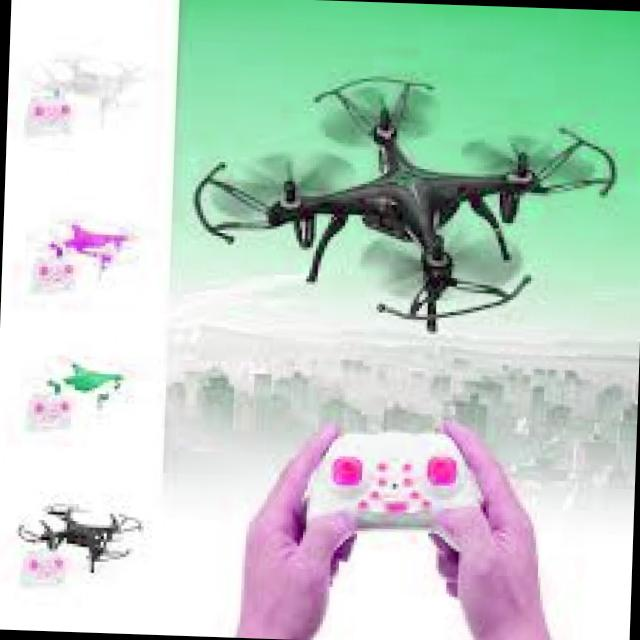drone: (186, 69, 632, 332), (12, 488, 142, 576), (41, 50, 152, 124), (47, 206, 133, 279), (45, 346, 128, 410)
